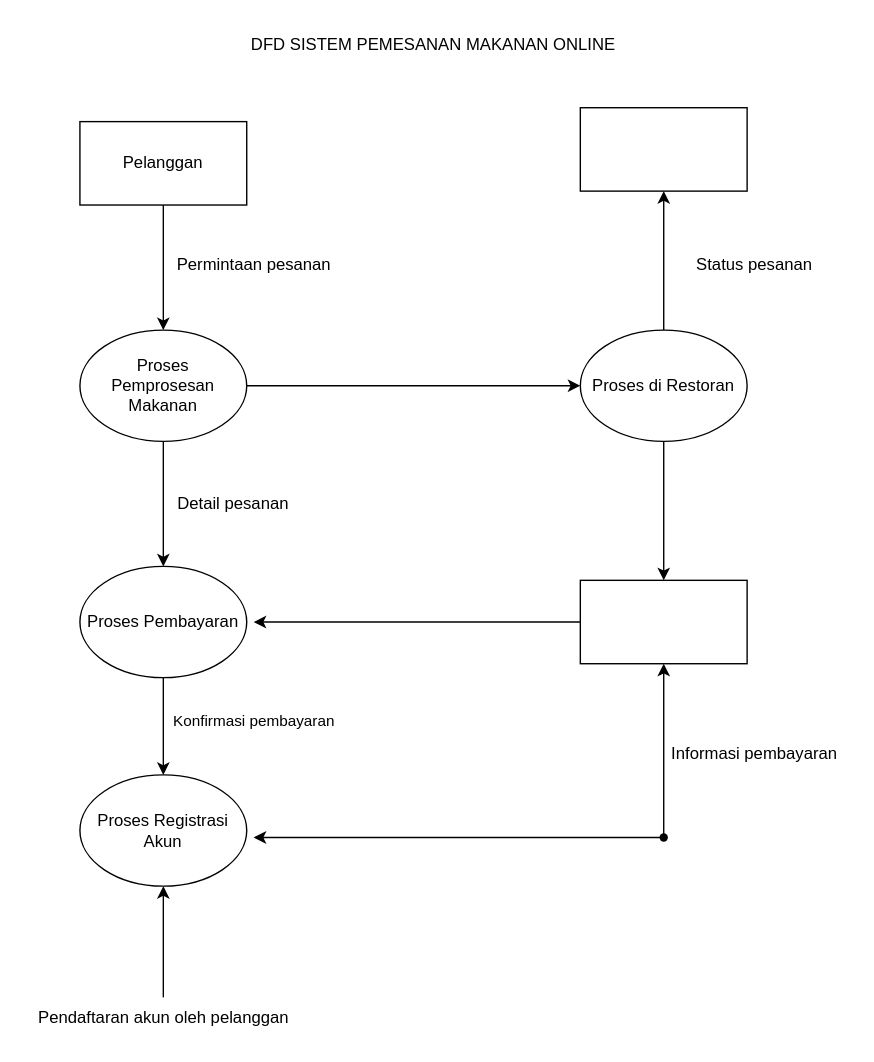
Image size: 874x1062. Some labels were removed from this diagram. Each missing label, with the centre of its shape:
"Payment Gateway" belongs at pixel 663 621.
"Restoran" belongs at pixel 663 148.
